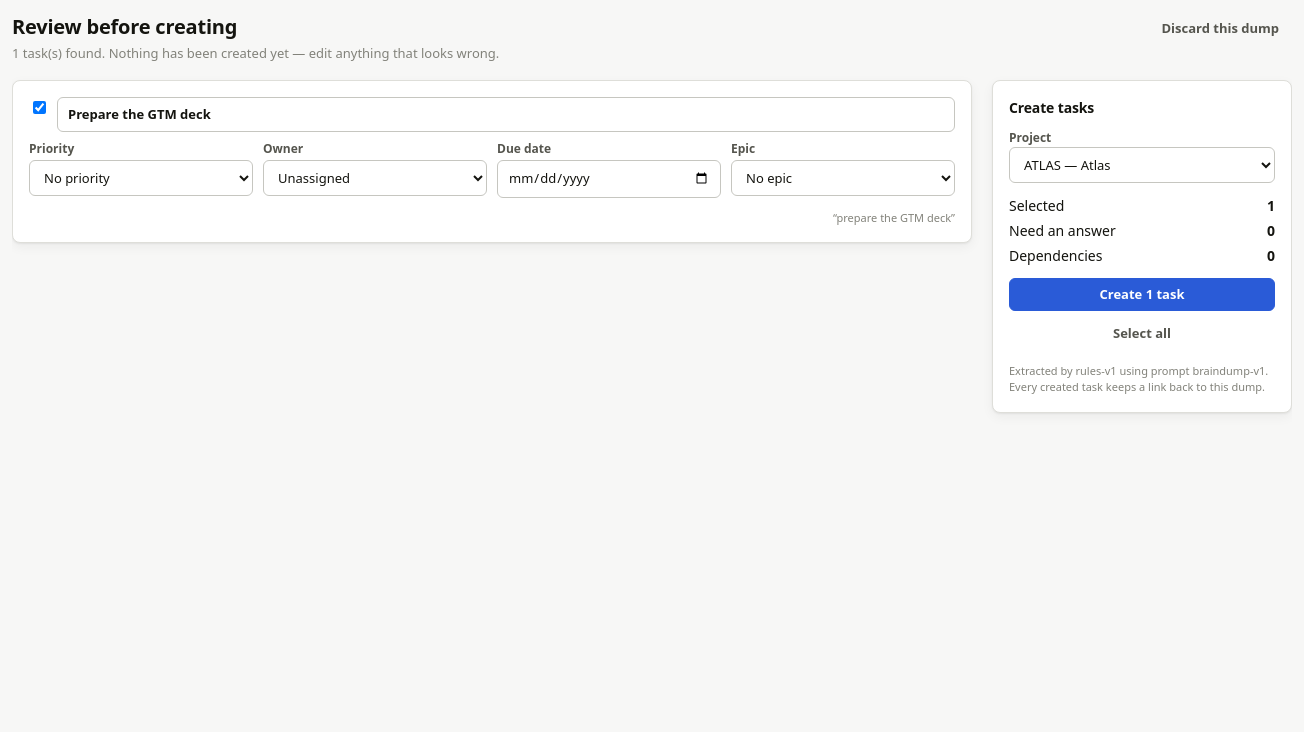
Scenario: ProposalReview › surfaces a server refusal as an error instead of claiming success
This screenshot has width=1304, height=732.
Click the button "Create 1 task": {"x": 1142, "y": 294} [1009, 278, 1275, 311]
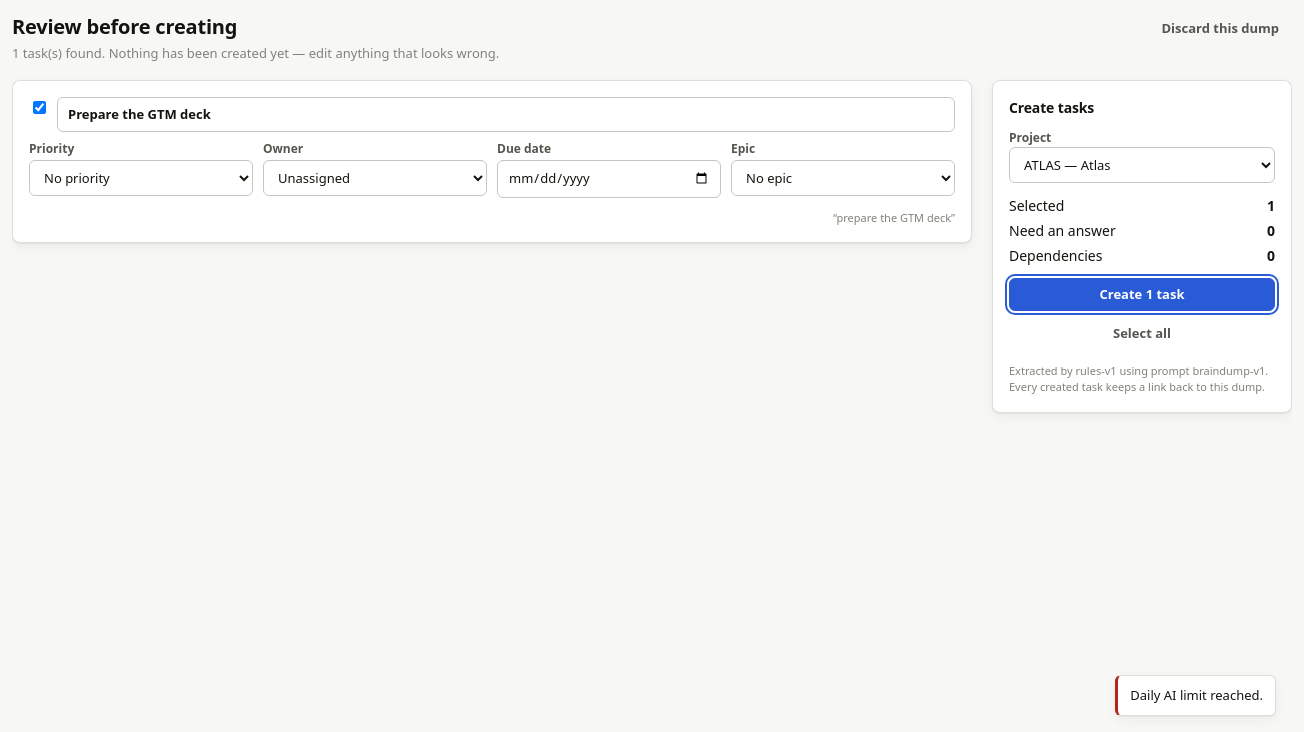
Result: the text "Daily AI limit reached." is shown at [1115, 674, 1276, 716]
